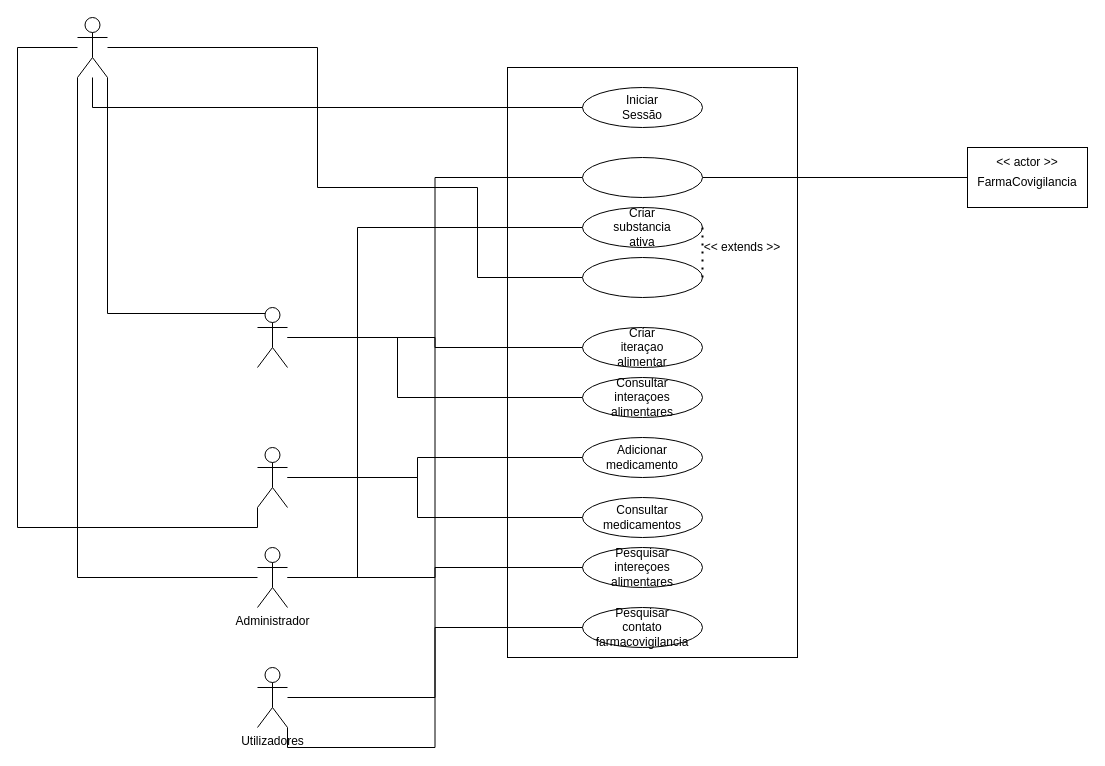
The diagram is 1105 pixels wide and 766 high, and some of its shapes have lost their labels. Here are the shapes that lost their labels. From the top down, the centre of each, then its label:
At [92,47]: "Utente".
At [642,177]: "Registar".
At [642,277]: "Consultar substancias ativas".
At [272,337]: "Farmaceuticos".
At [272,477]: "Industria".
